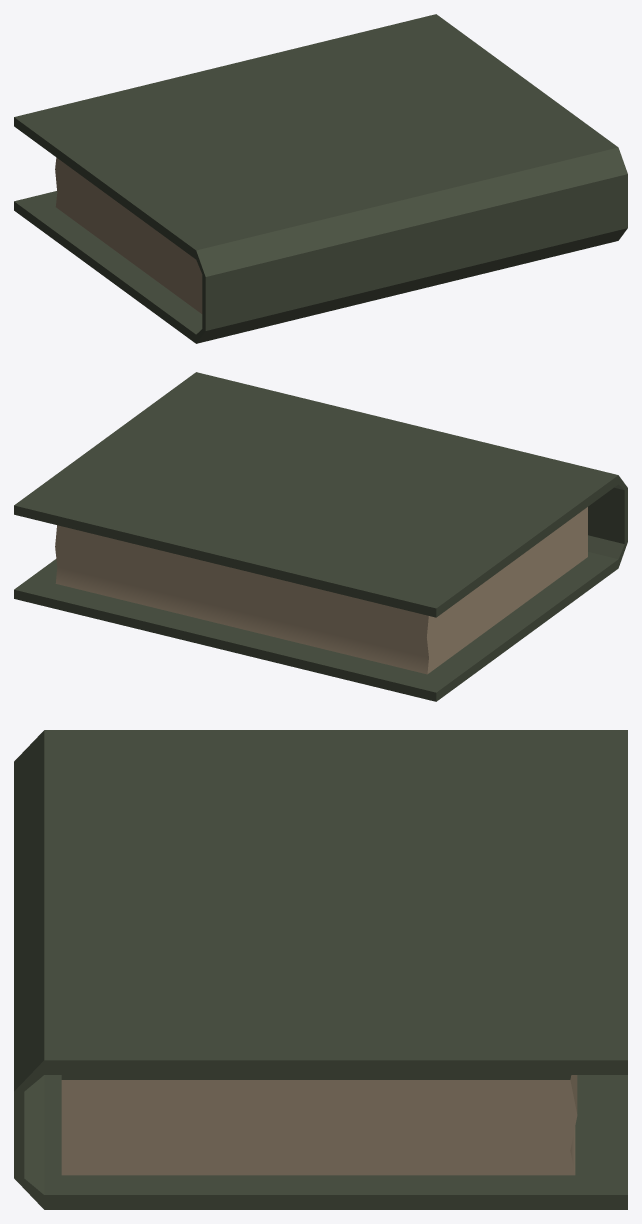
Rendered from Book 1.fbx.
3 renders of one model, top to bottom at view 1: azimuth 30°, elevation 25°; view 2: azimuth 150°, elevation 25°; view 3: azimuth 270°, elevation 25°, orthographic. The views are drawn at different scales.
Parts seen in each view (by area): view 1: Book; view 2: Book; view 3: Book.
Part boxes in pixels (left/top/right/bottom): Book: left=14, top=14, right=627, bottom=343; Book: left=14, top=372, right=627, bottom=701; Book: left=14, top=730, right=627, bottom=1209.
Size of the model in its own units: 141 by 29.81 by 111.
